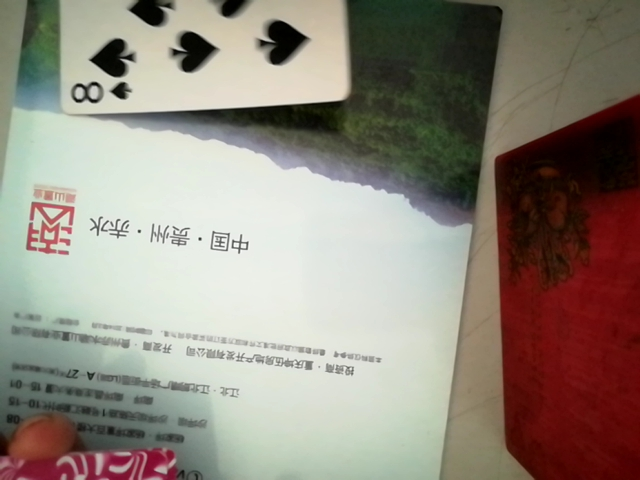ht 8: (42, 6, 351, 124)
